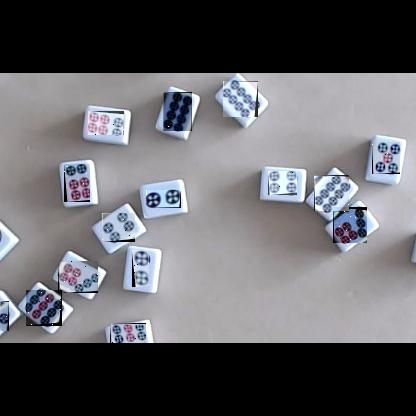2p: (146, 190, 181, 208), (132, 250, 149, 287)
4p: (102, 213, 135, 242), (268, 171, 297, 195)
5p: (372, 142, 400, 174), (0, 301, 9, 331)
6p: (64, 164, 90, 202), (88, 111, 124, 135)
7p: (58, 261, 98, 293), (333, 207, 367, 243)
8p: (223, 81, 258, 117), (314, 175, 349, 211), (163, 92, 192, 131)
9p: (26, 290, 62, 326), (110, 323, 146, 343)
